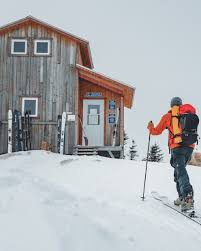skis: (150, 190, 201, 227)
